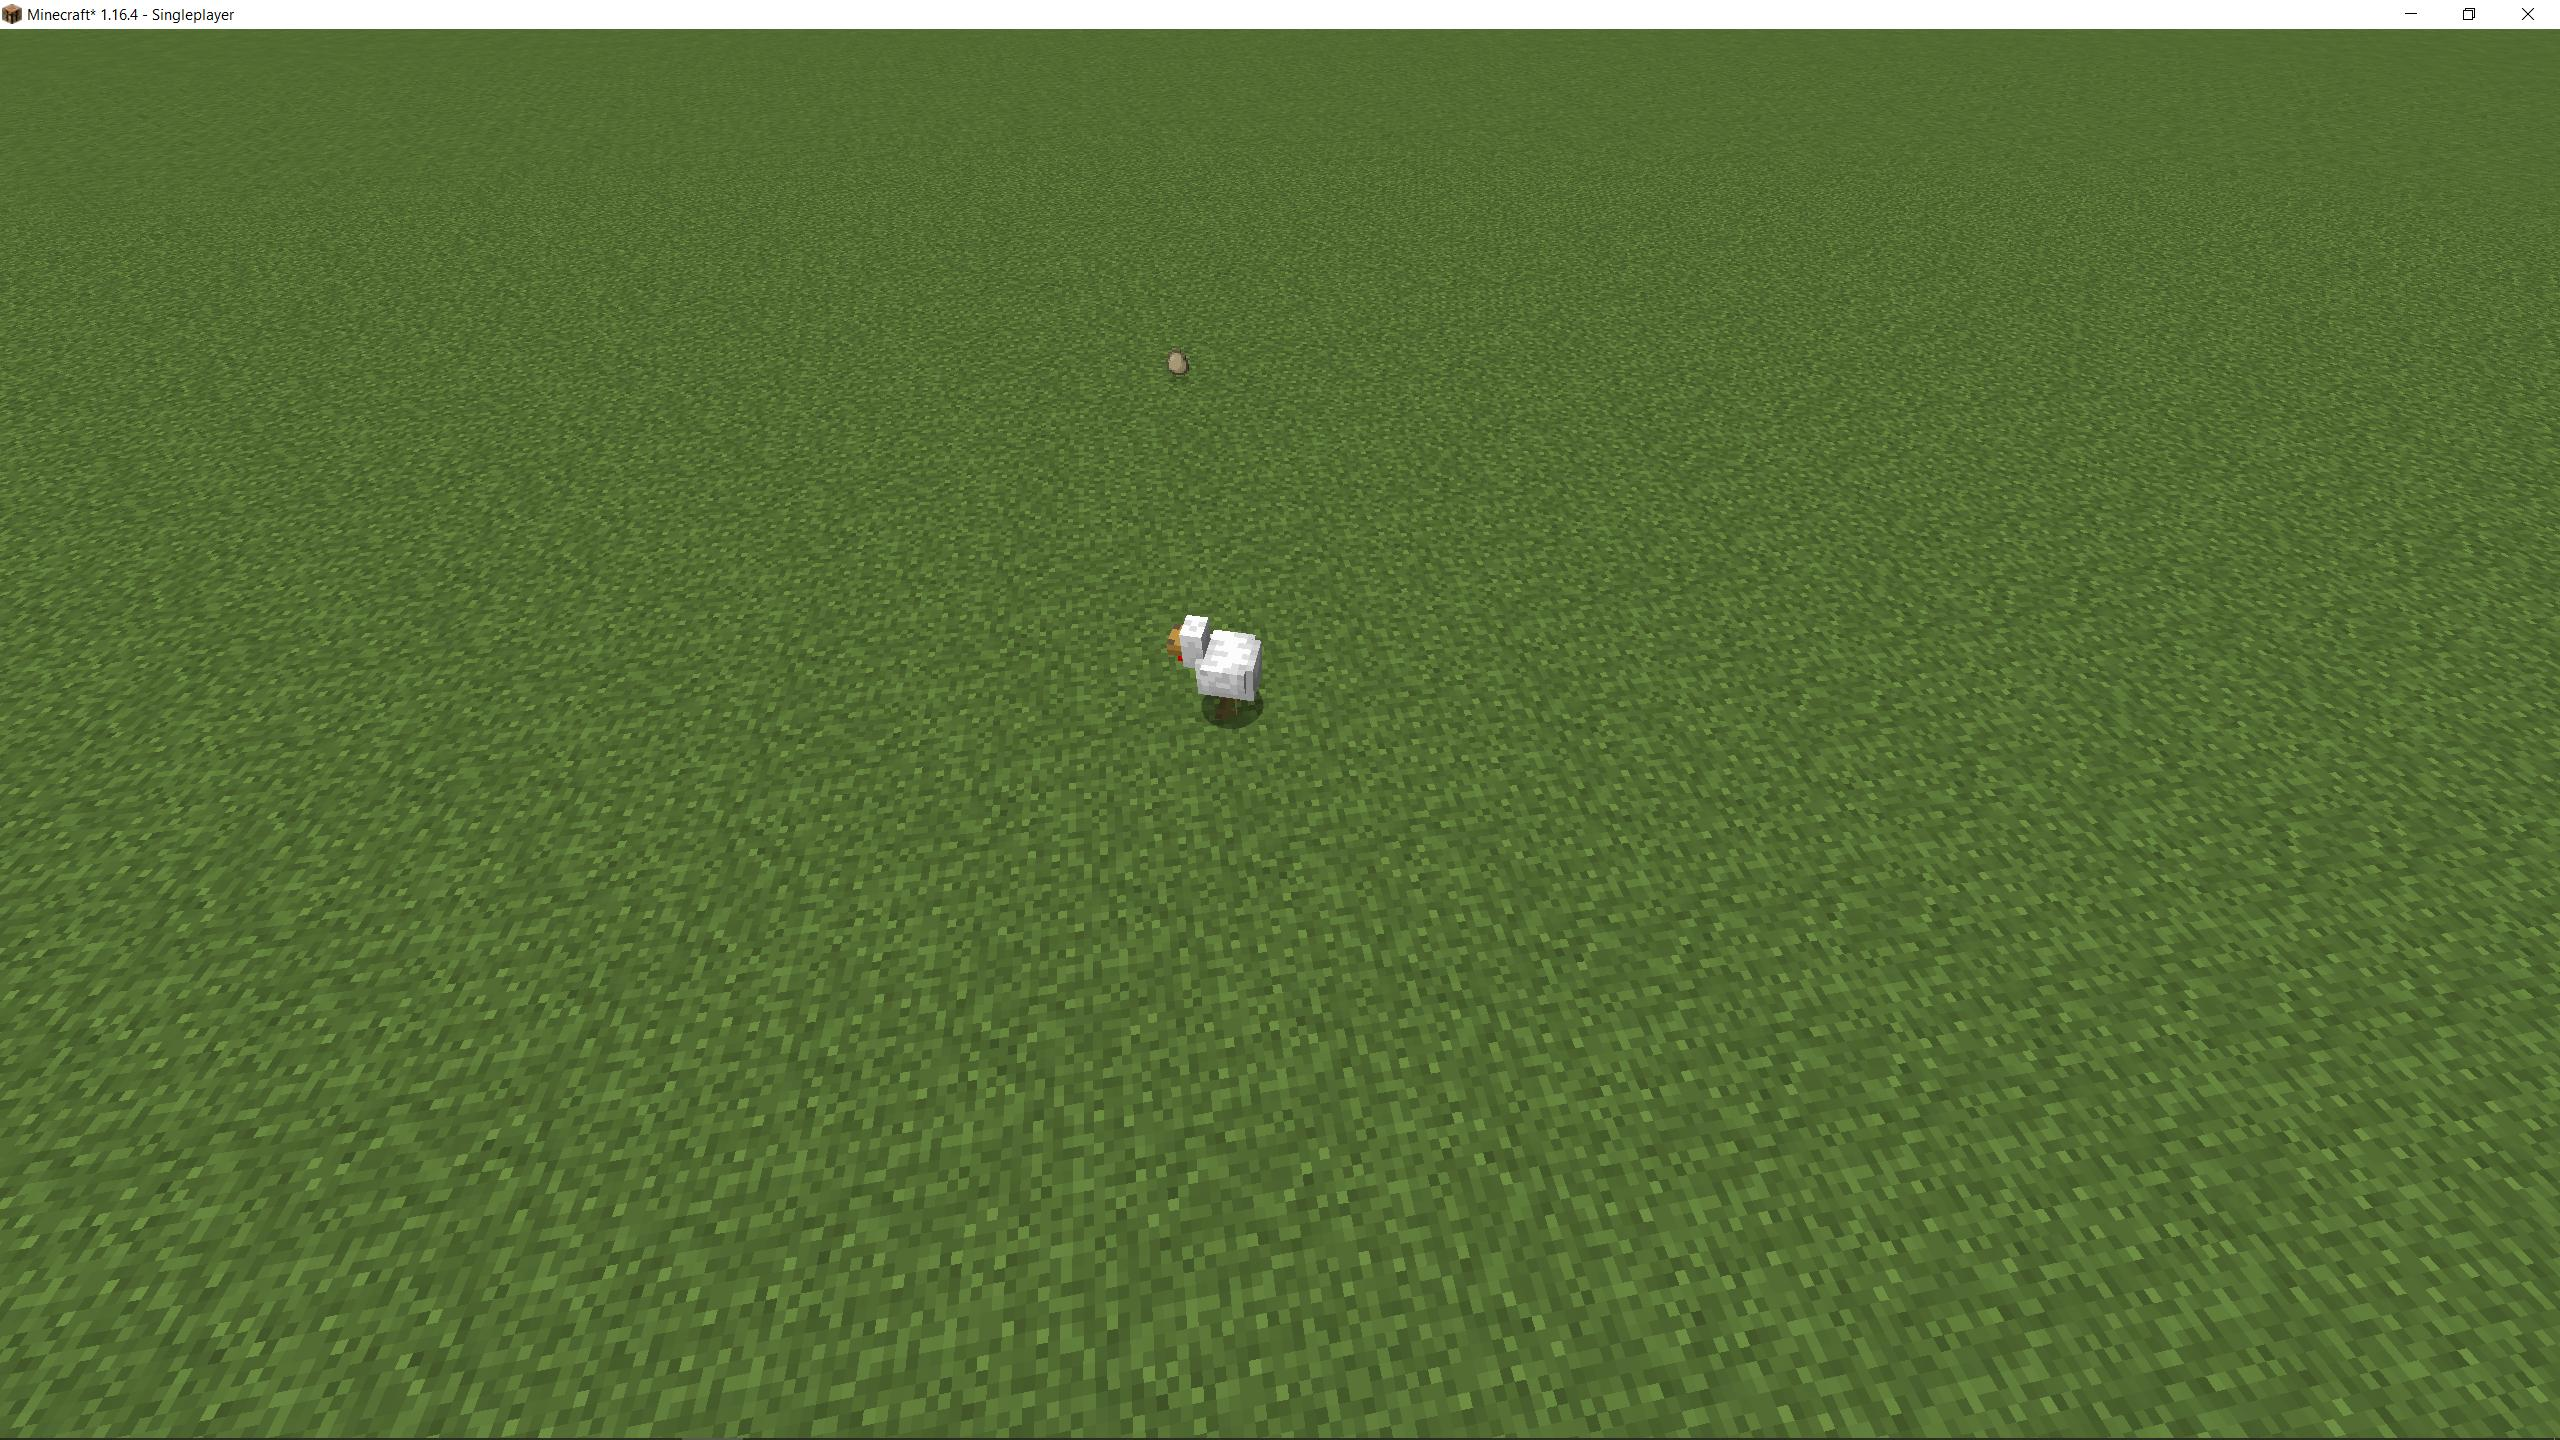chicken: (1157, 608, 1271, 721)
